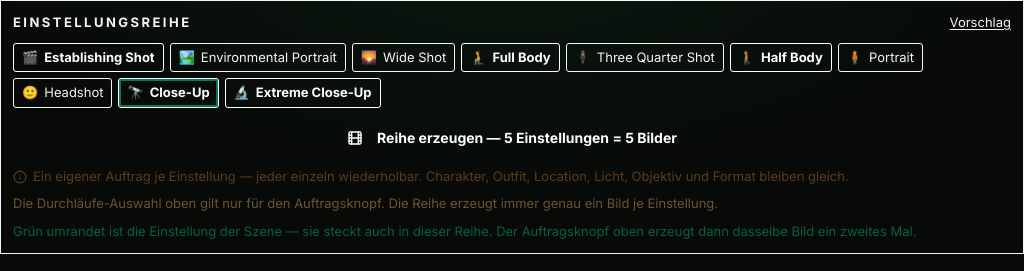
Test case: ReiheButton › weist auf die Doppelerzeugung hin, solange die Szenen-Einstellung dabei ist
The width and height of the screenshot is (1024, 271).
Expected: the text "dasselbe Bild ein zweites Mal" is shown, [13,223,916,239]
Click the button titled "Aktuelle Einstellung der Szene" at (169, 93), box [118,78,219,108]
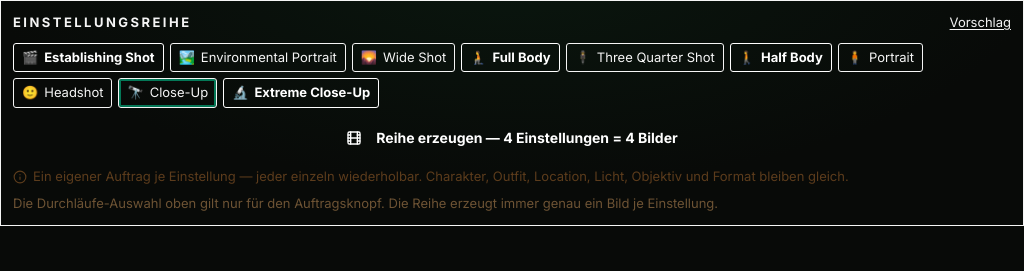
Now the text "dasselbe Bild ein zweites Mal" is gone
